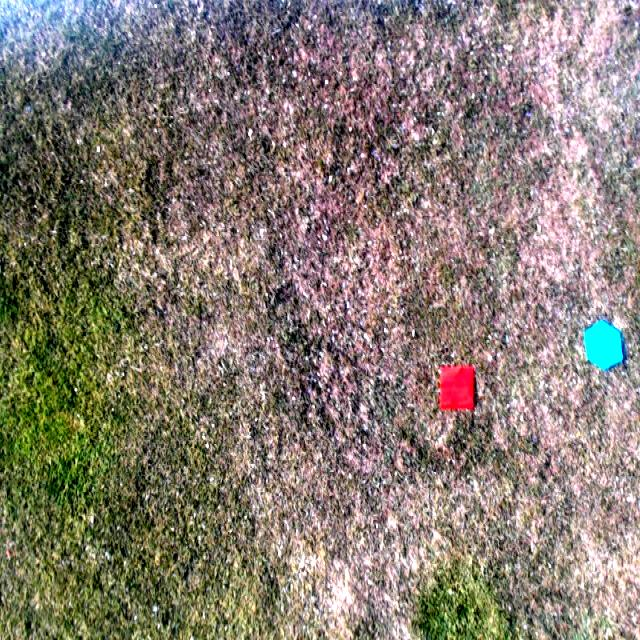blue_hexagon: (582, 318, 623, 372)
red_square: (439, 365, 474, 408)
